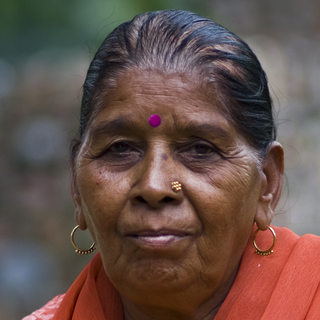eye: (180, 139, 227, 164), (97, 138, 143, 163)
